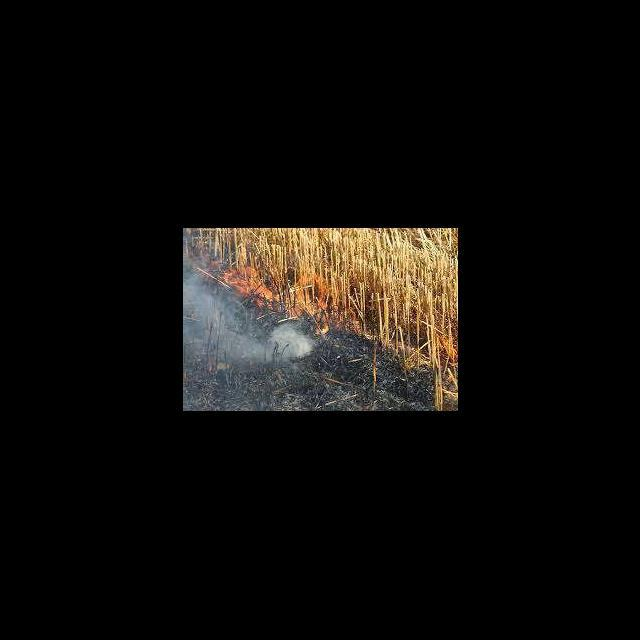Fire: (183, 231, 393, 352)
Smoke: (182, 283, 317, 366)
